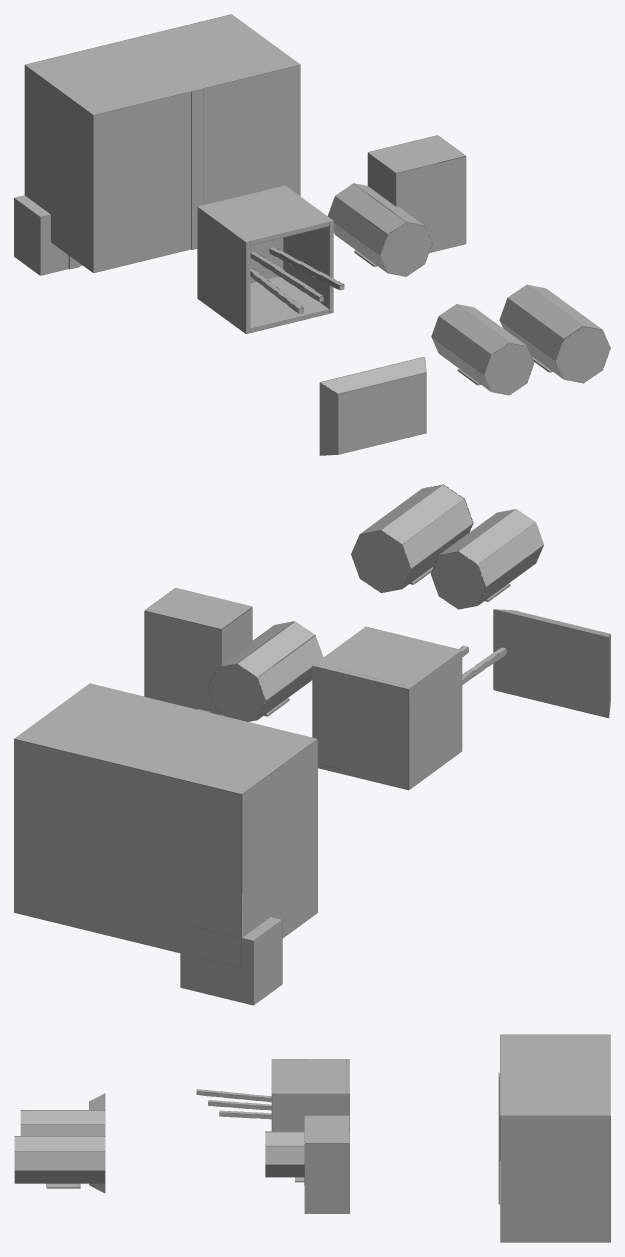
Rendered from contents_books_misc_01_24.obj.
3 renders of one model, top to bottom at view 1: azimuth 30°, elevation 25°; view 2: azimuth 150°, elevation 25°; view 3: azimuth 270°, elevation 25°, orthographic. The views are drawn at different scales.
Parts seen in each view (by area): view 1: contents_books_misc_01_24; view 2: contents_books_misc_01_24; view 3: contents_books_misc_01_24.
Part boxes in pixels (<box>): contents_books_misc_01_24: <box>14,14,610,455</box>; contents_books_misc_01_24: <box>14,484,610,1005</box>; contents_books_misc_01_24: <box>14,1034,610,1242</box>.
Bounding box in the file's own units: 0.77 × 0.515 × 1.83.
Materials: 1 (1 with a texture image).
